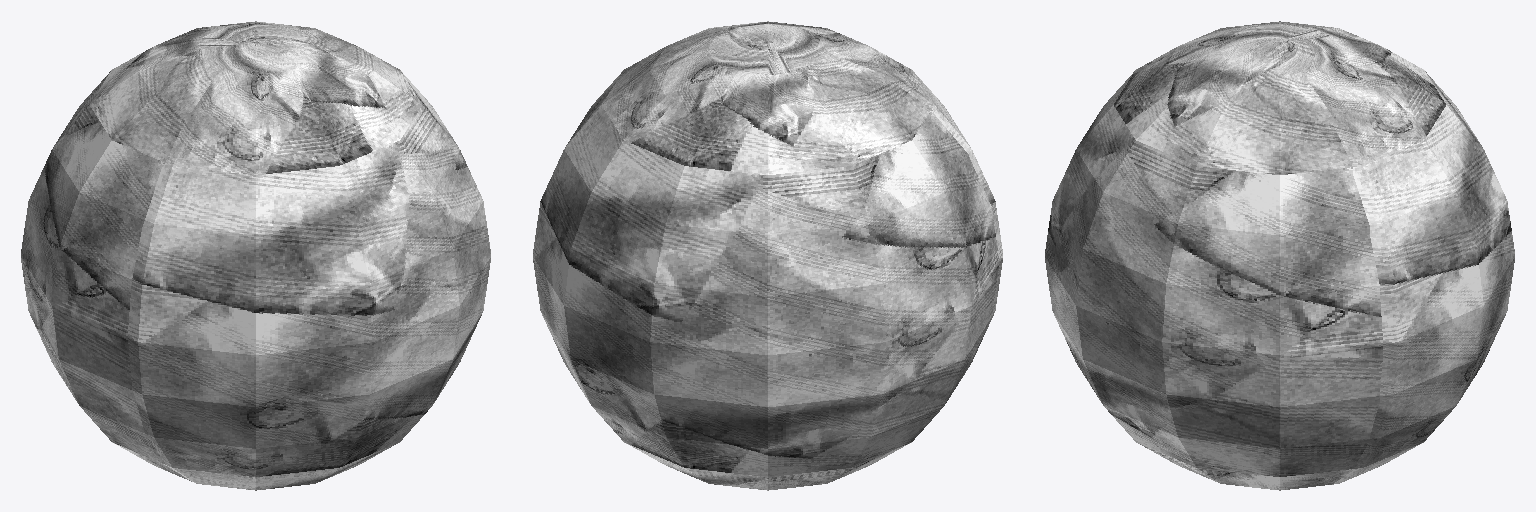
3 renders of one model, left to right at view 1: azimuth 30°, elevation 25°; view 2: azimuth 150°, elevation 25°; view 3: azimuth 270°, elevation 25°, orthographic.
Visible parts, largest first — view 1: Sphere; view 2: Sphere; view 3: Sphere.
Part boxes in pixels (x1,y1,x2,y2): Sphere: (21, 21, 490, 490); Sphere: (533, 21, 1002, 490); Sphere: (1045, 21, 1514, 490).
Size of the model in its own units: 1 by 1 by 1.
1 materials, 1 textured.